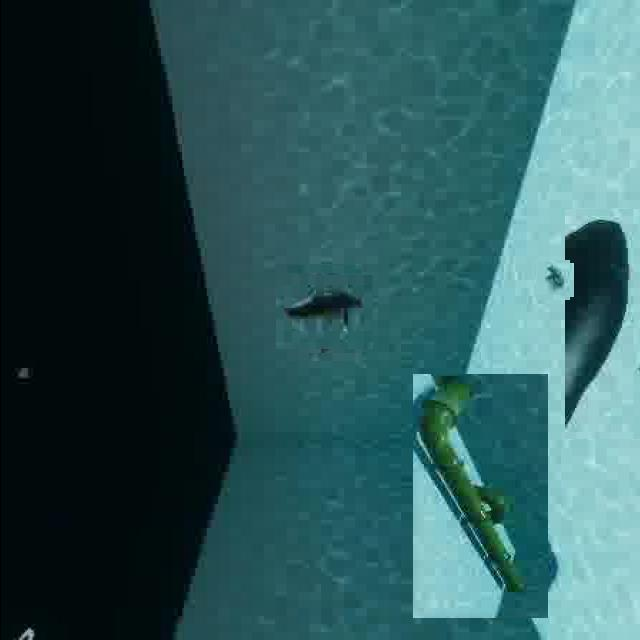Pipe: (412, 374, 548, 619)
Shell: (534, 262, 572, 298)
Whale: (564, 209, 640, 439), (280, 270, 366, 356)
